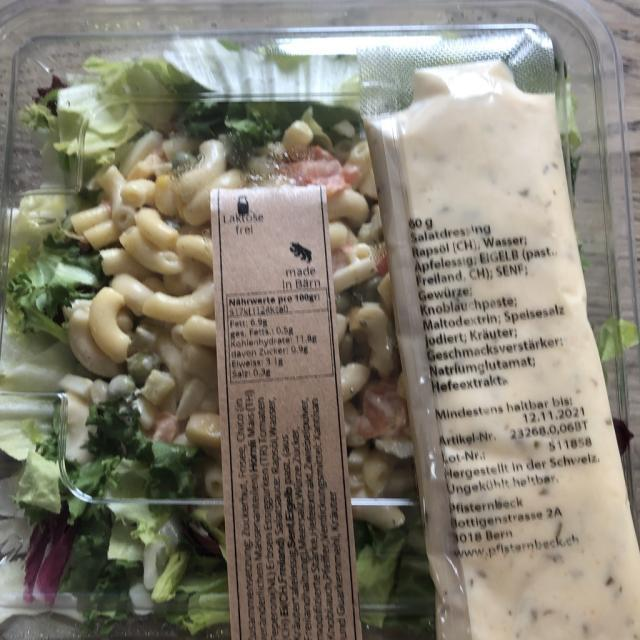pasta: (71, 114, 410, 519)
salad: (7, 44, 423, 631)
